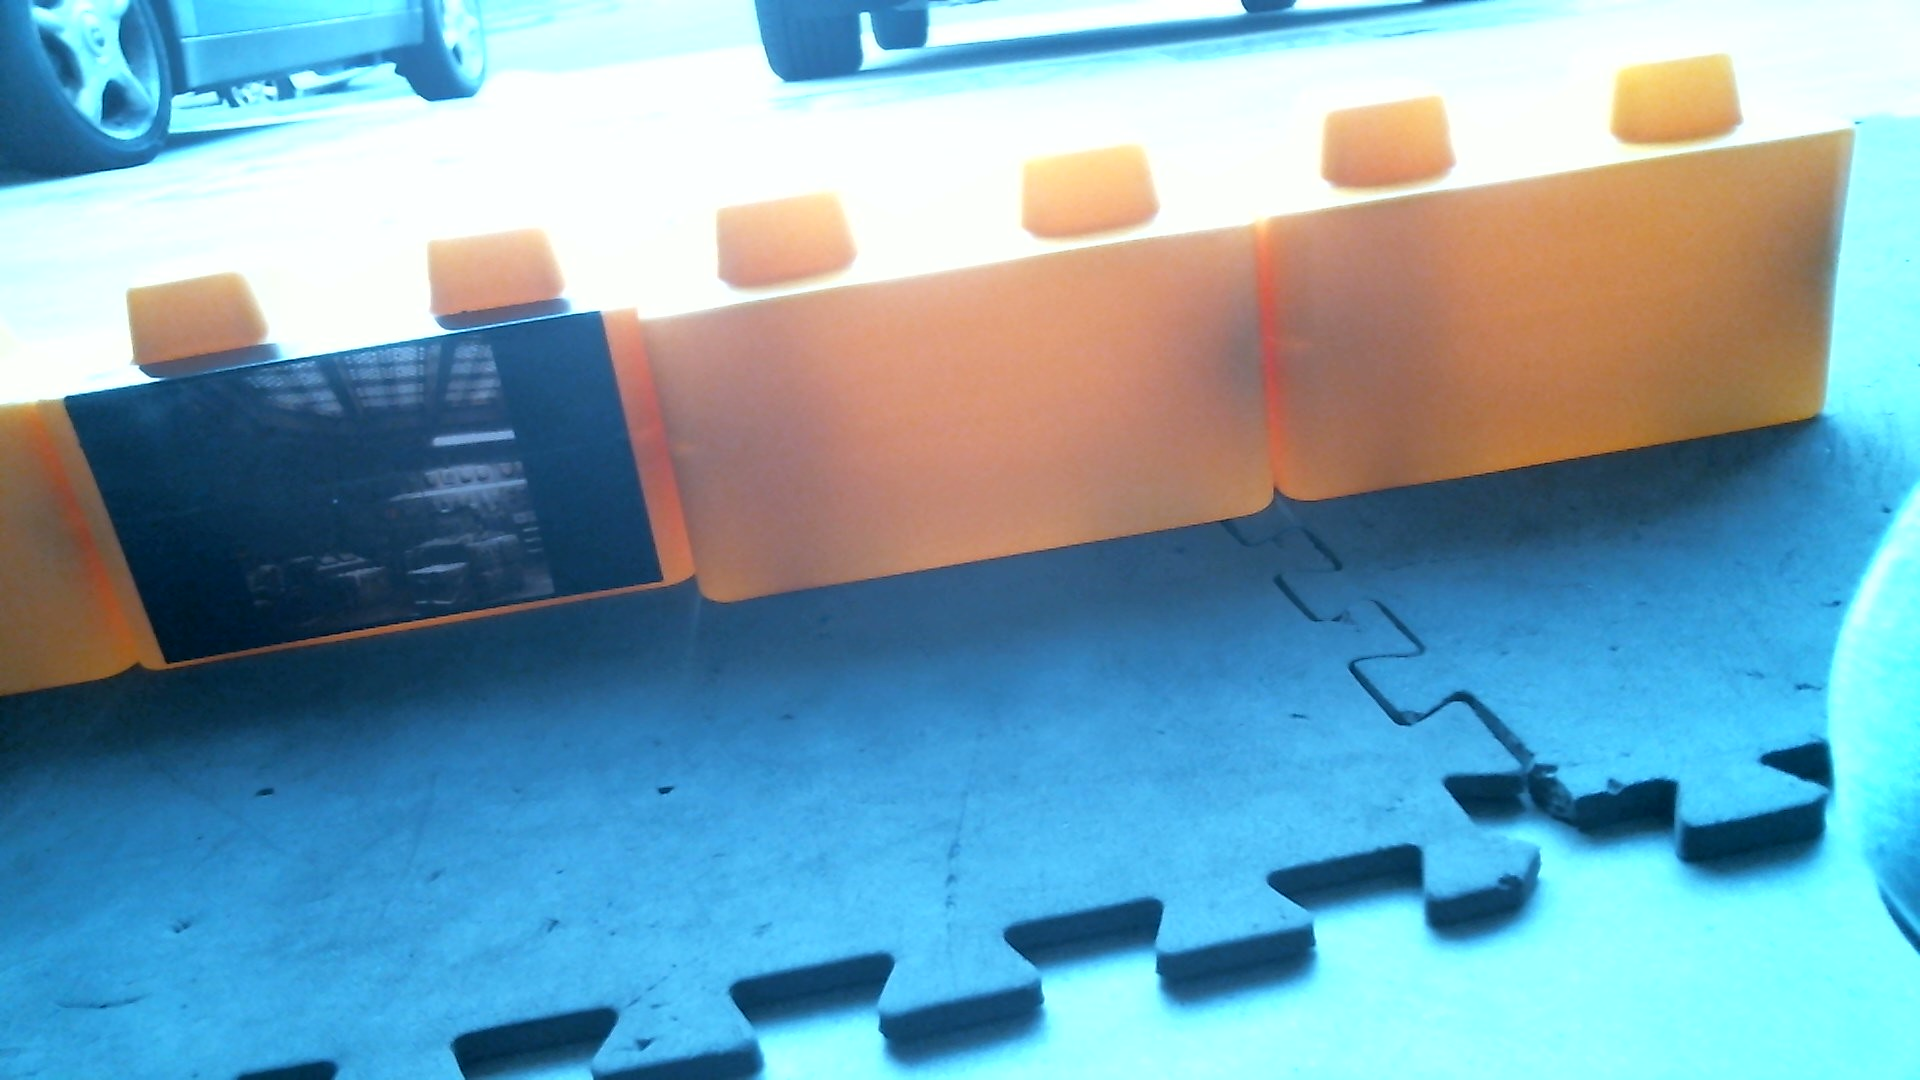left: (25, 41, 1871, 700)
